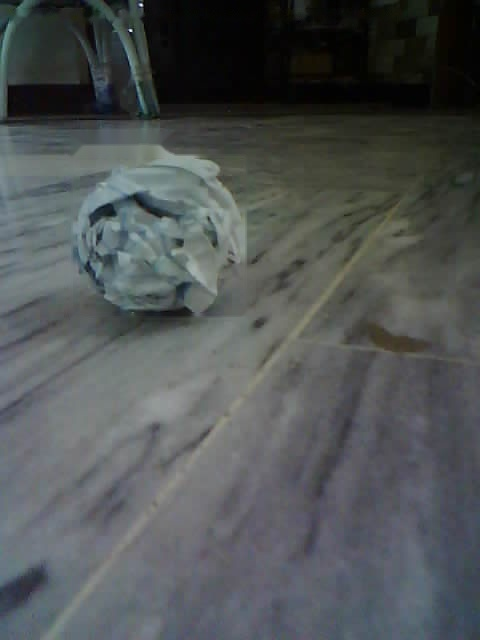paper: (71, 149, 247, 317)
